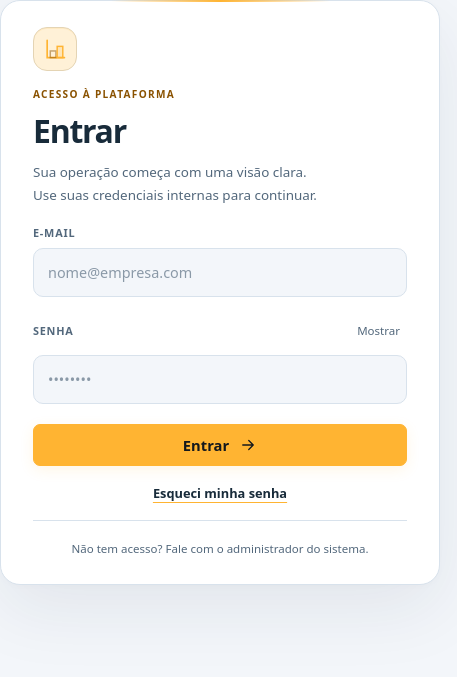
LoginForm › mostra a mensagem mapeada quando o login falha
Type "admin@example.test" into the field labelled "E-MAIL" at [220, 272], box [33,248,407,297]
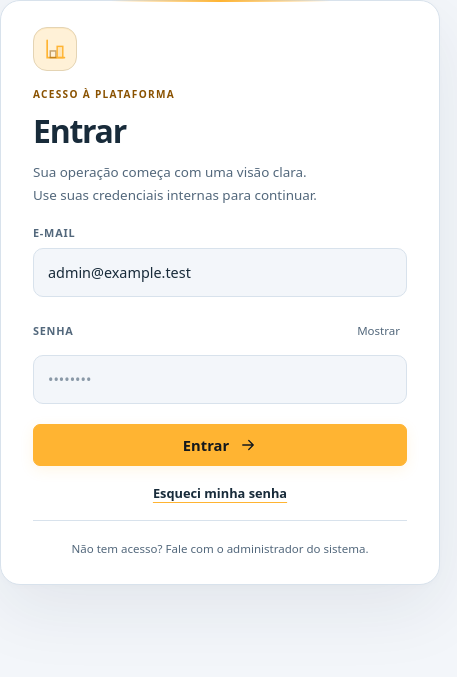
Type "senha-errada" into the password field labelled "SENHA" at [220, 379], box [33,355,407,404]
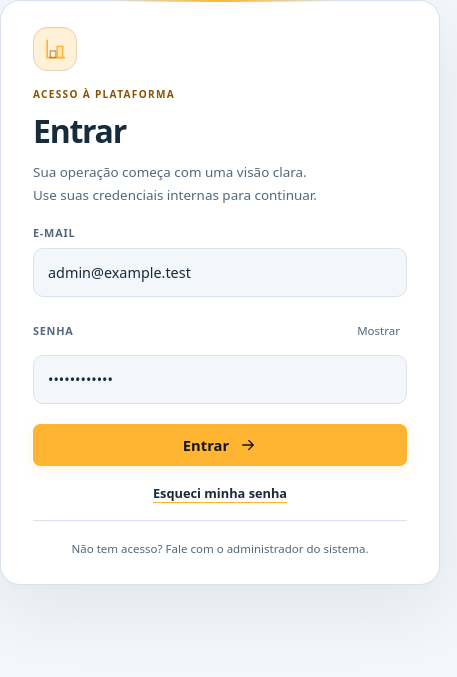
Click the button "Entrar" at [220, 445], box [33,424,407,466]
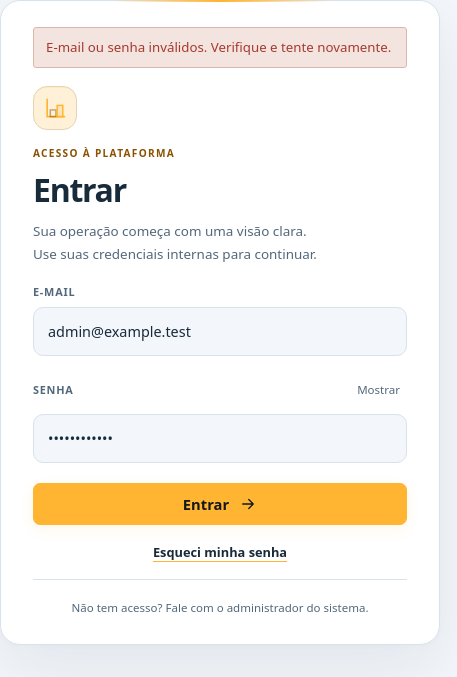
Expected: the message reads "E-mail ou senha inválidos. Verifique e tente novamente.", [46,38,391,56]
